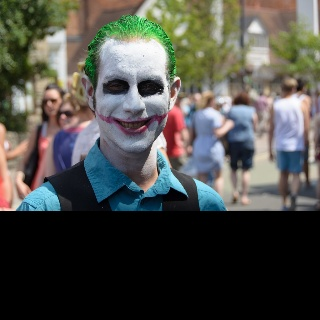without_mask: (81, 35, 180, 156), (58, 102, 79, 131), (42, 88, 62, 117)
